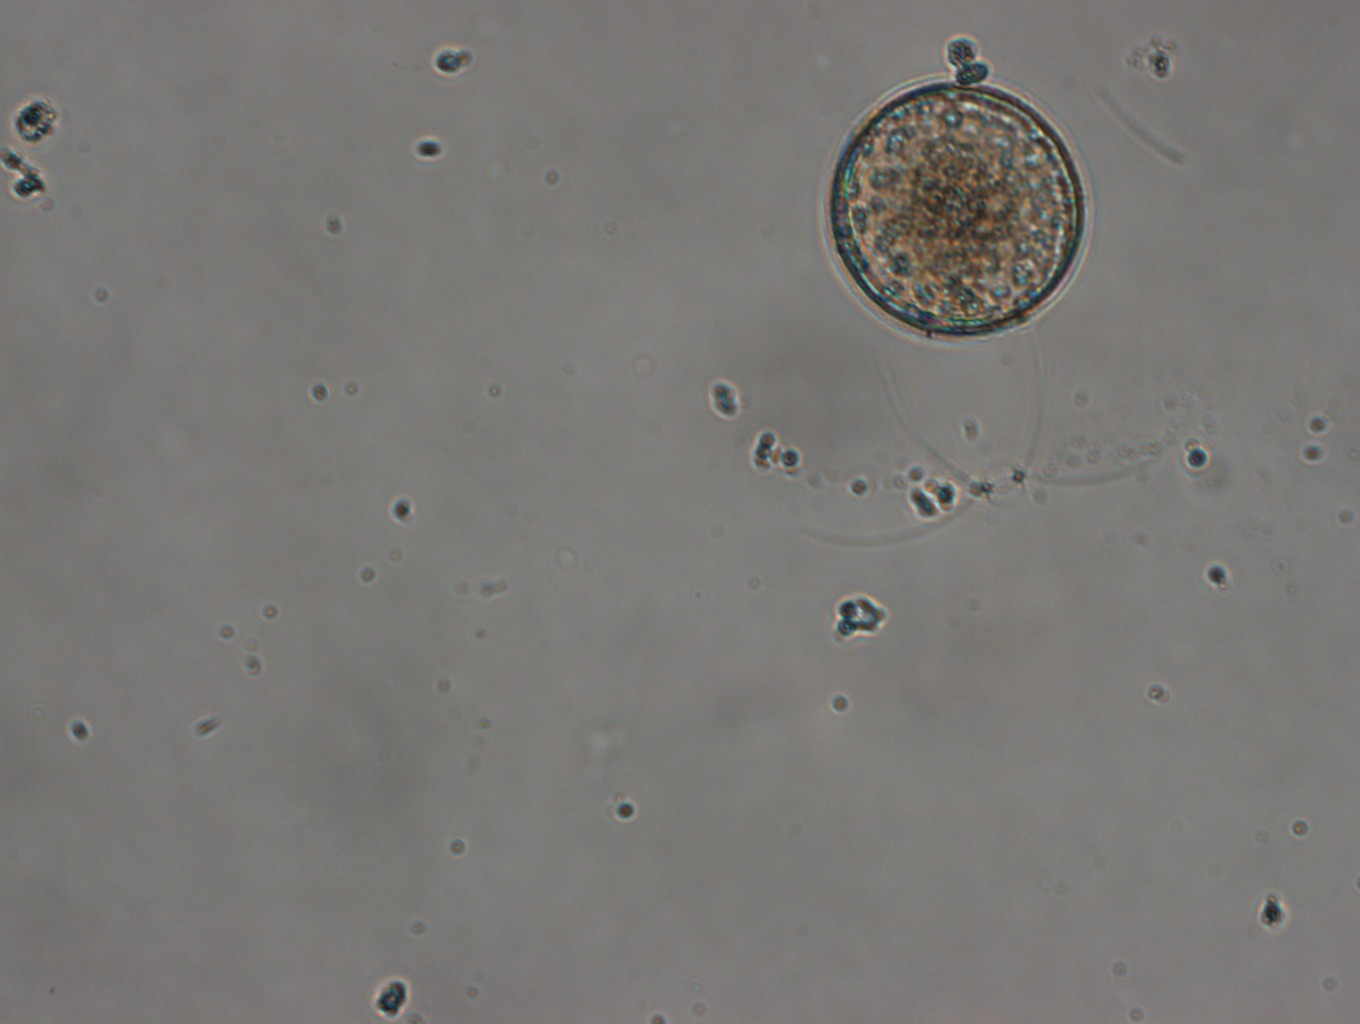coscinodiscus: (820, 75, 1096, 344)
